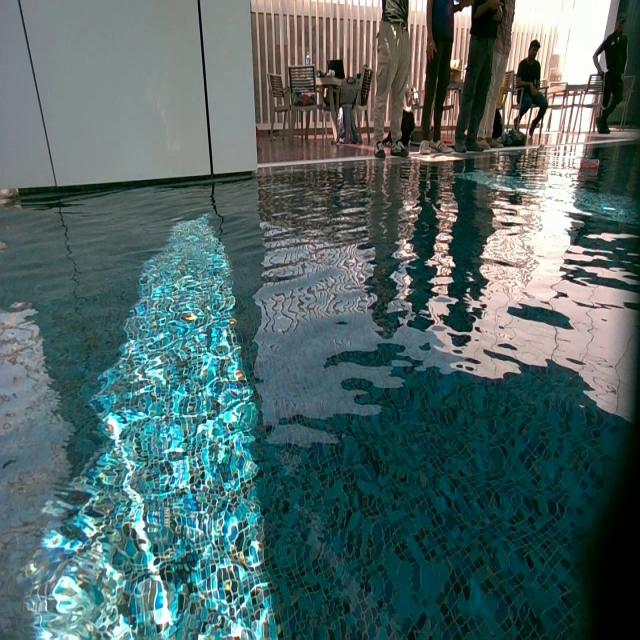Cans: (580, 156, 599, 172)
